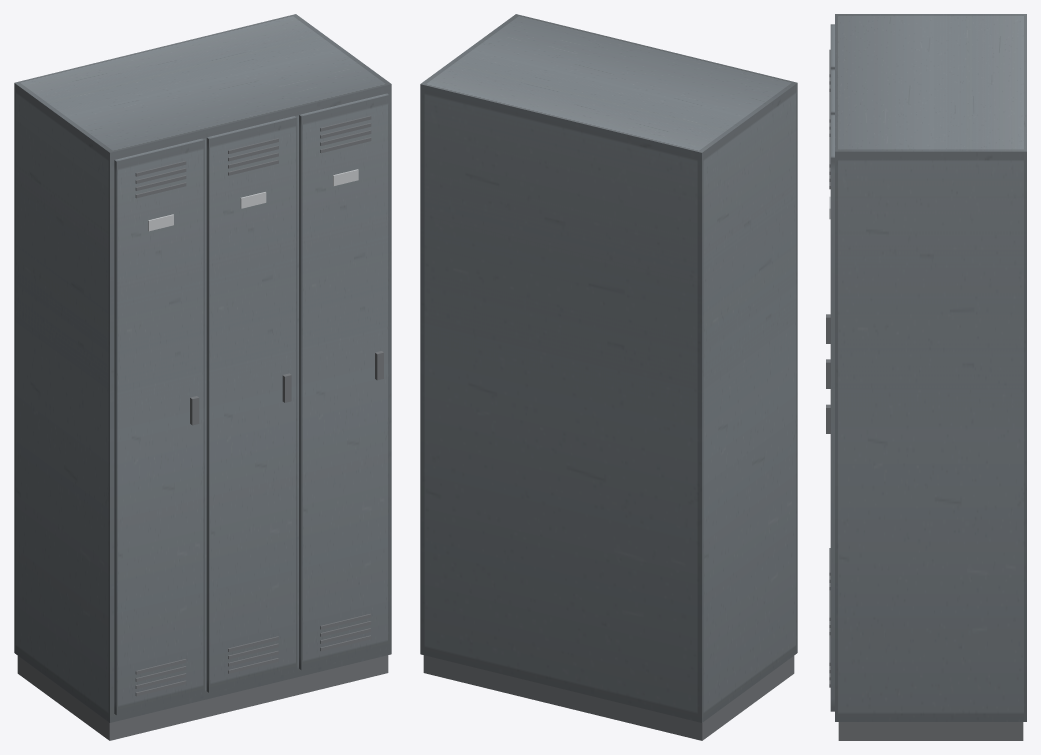
Rendered from locker_3row_steel.glb.
3 renders of one model, left to right at view 1: azimuth 30°, elevation 25°; view 2: azimuth 150°, elevation 25°; view 3: azimuth 270°, elevation 25°, orthographic.
Parts seen in each view (by area): view 1: locker_3row_steel; view 2: locker_3row_steel; view 3: locker_3row_steel.
Part boxes in pixels (x1=…): locker_3row_steel: x1=14, y1=14, x2=391, y2=740; locker_3row_steel: x1=420, y1=14, x2=797, y2=740; locker_3row_steel: x1=826, y1=14, x2=1026, y2=740.
Bounding box in the file's own units: 0.9 × 1.8 × 0.555.
Materials: 3 (1 with a texture image).
